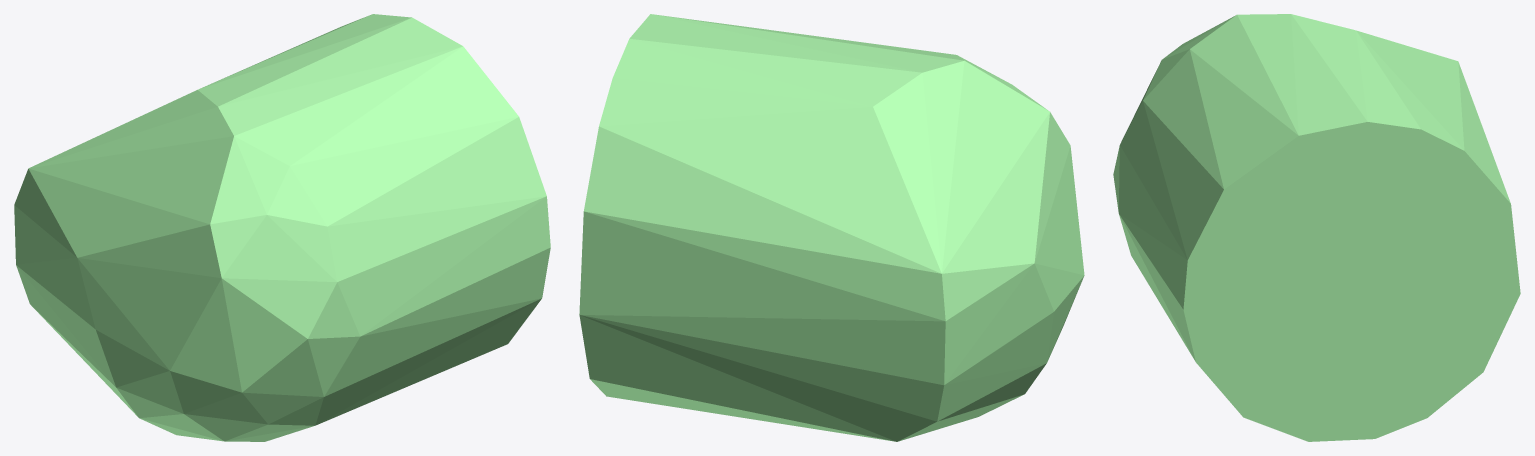
File: Panda_link5_respondable_coll_1.dae
The picture shows the model from 3 angles, left to right: view 1: azimuth 30°, elevation 25°; view 2: azimuth 150°, elevation 25°; view 3: azimuth 270°, elevation 25°; orthographic projection. The views are drawn at different scales.
Parts seen in each view (by area): view 1: Node_0x7f9e8b5c4080; view 2: Node_0x7f9e8b5c4080; view 3: Node_0x7f9e8b5c4080.
Boxes of the visible parts, x1=… form: Node_0x7f9e8b5c4080: x1=14, y1=14, x2=550, y2=441; Node_0x7f9e8b5c4080: x1=579, y1=14, x2=1084, y2=441; Node_0x7f9e8b5c4080: x1=1113, y1=14, x2=1520, y2=441.
Size of the model in its own units: 0.1237 by 0.0967 by 0.1119.
